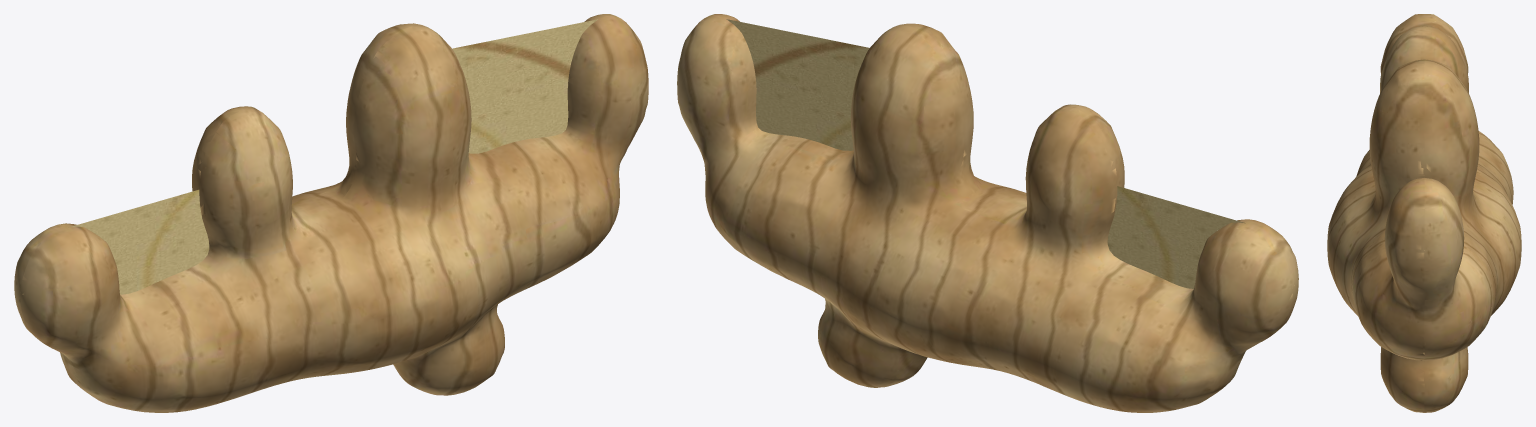
Rendered from gingembre.glb.
3 renders of one model, left to right at view 1: azimuth 30°, elevation 25°; view 2: azimuth 150°, elevation 25°; view 3: azimuth 270°, elevation 25°, orthographic. The views are drawn at different scales.
Visible parts, largest first — view 1: moitie_A_peau, entier_peau, moitie_A_chair, moitie_B_peau, moitie_B_chair; view 2: entier_peau, moitie_B_peau, moitie_A_chair, moitie_B_chair, moitie_A_peau; view 3: entier_peau, moitie_B_peau, moitie_A_peau.
Part boxes in pixels (x1=…): moitie_A_peau: x1=21, y1=16, x2=648, y2=412; entier_peau: x1=14, y1=14, x2=648, y2=412; moitie_A_chair: x1=68, y1=19, x2=597, y2=294; moitie_B_peau: x1=14, y1=15, x2=616, y2=399; moitie_B_chair: x1=88, y1=82, x2=567, y2=279; entier_peau: x1=677, y1=14, x2=1298, y2=412; moitie_B_peau: x1=677, y1=20, x2=1292, y2=412; moitie_A_chair: x1=726, y1=19, x2=1245, y2=288; moitie_B_chair: x1=756, y1=81, x2=1223, y2=275; moitie_A_peau: x1=705, y1=14, x2=1298, y2=376; entier_peau: x1=1327, y1=14, x2=1521, y2=412; moitie_B_peau: x1=1424, y1=14, x2=1521, y2=412; moitie_A_peau: x1=1327, y1=15, x2=1424, y2=412.
Size of the model in its own units: 0.127 by 0.0728 by 0.0391.
2 materials, 2 textured.
